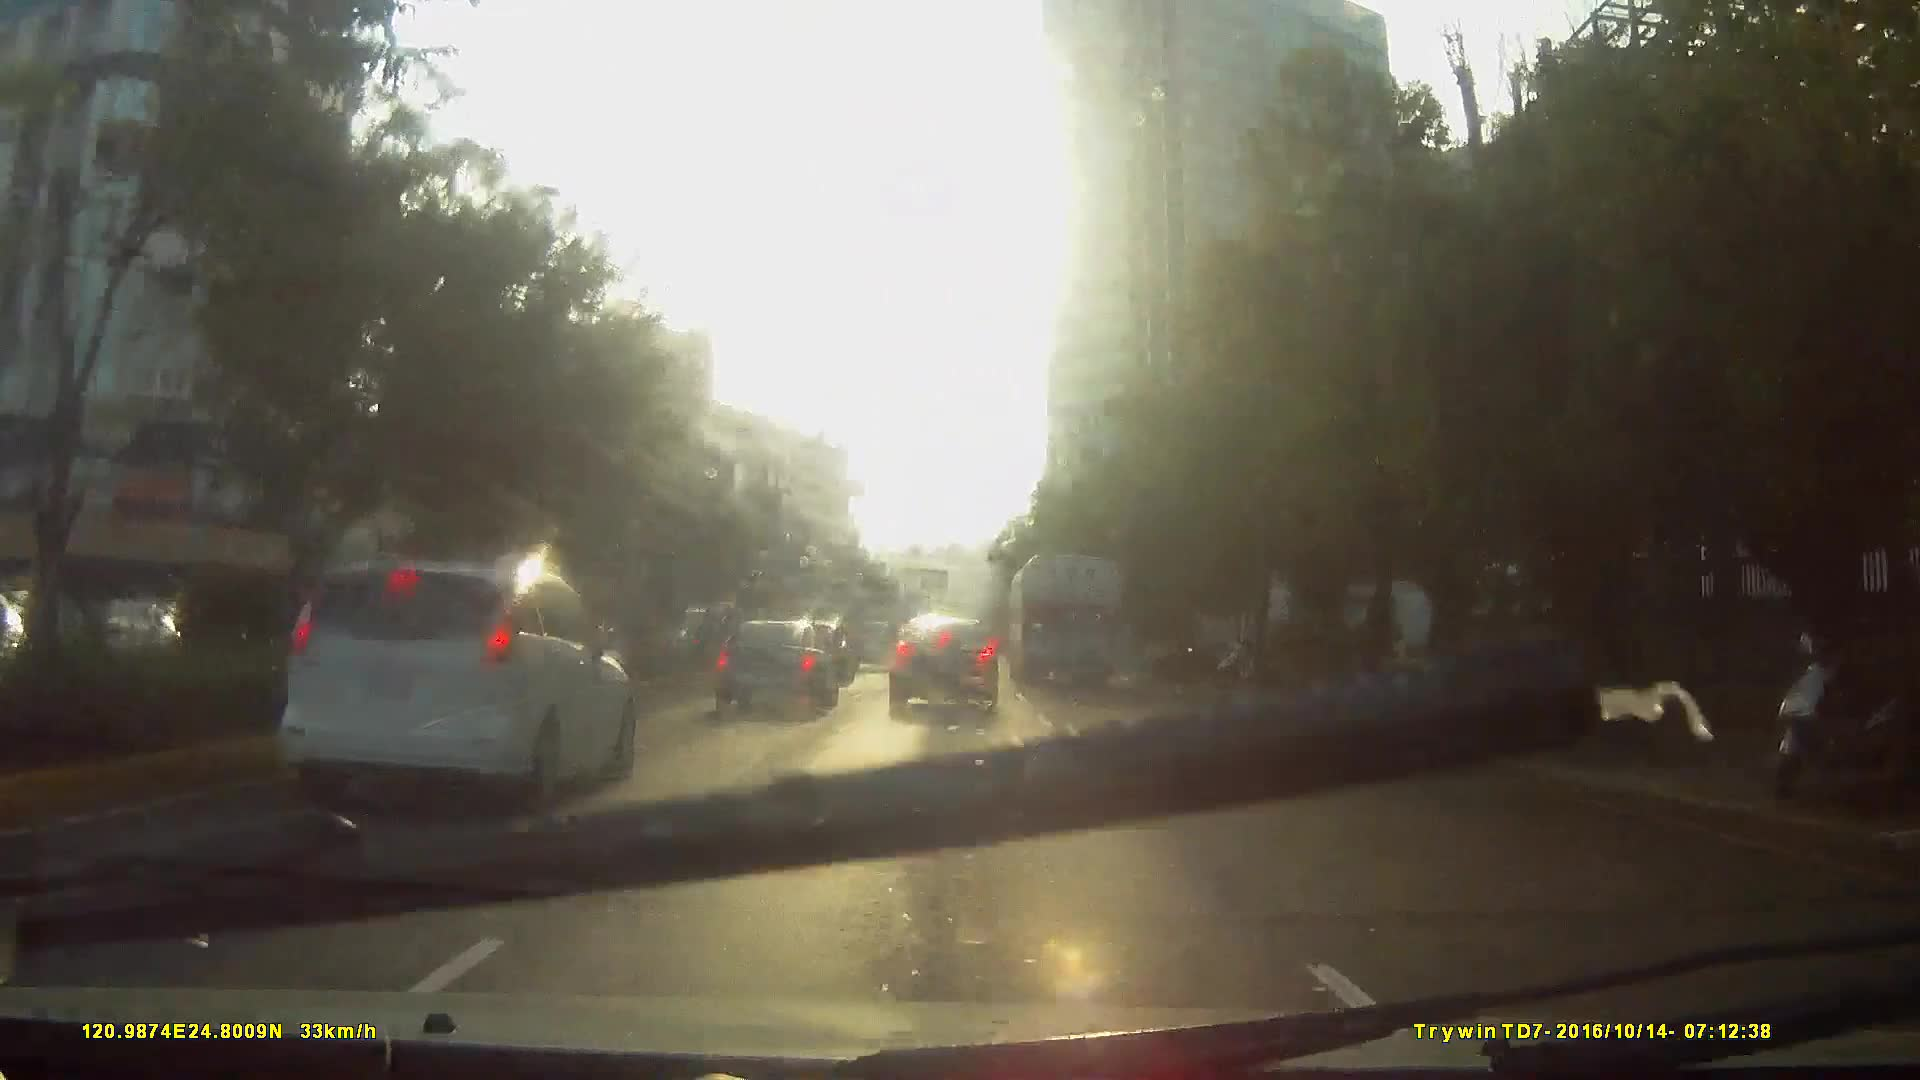vehicle: (251, 556, 684, 868), (260, 553, 646, 823), (1009, 550, 1121, 686), (709, 616, 840, 715), (890, 609, 1001, 713), (848, 618, 901, 673)
